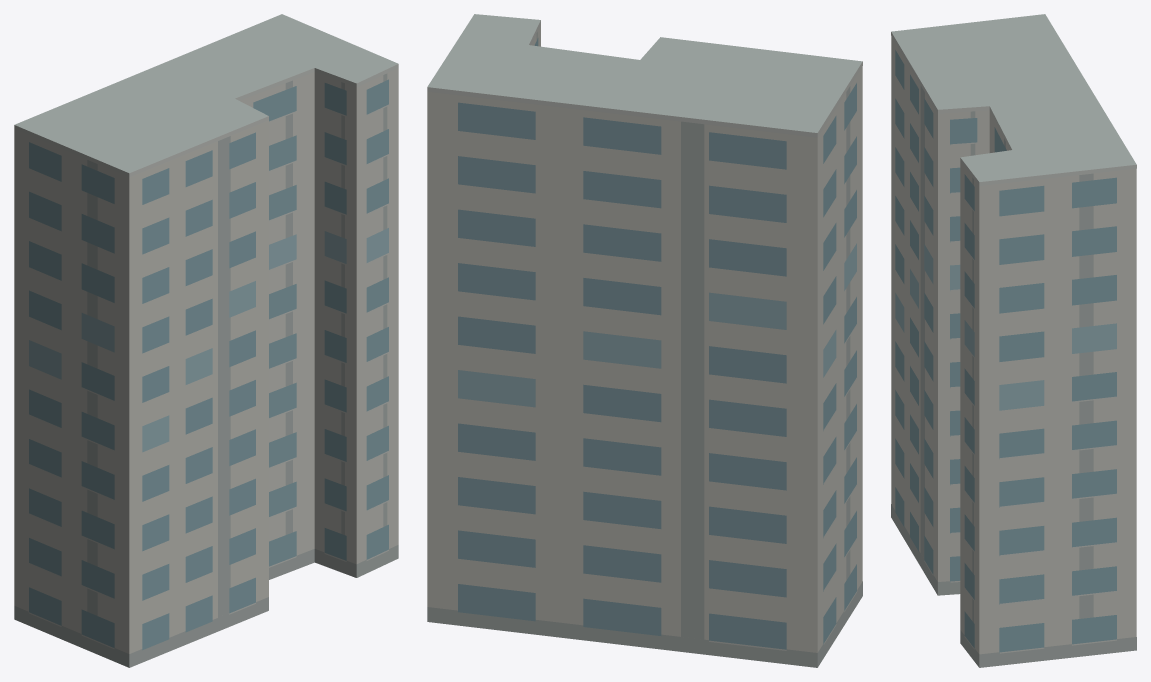
The model's file is residential-0a9e921e-aab9-4f10-840c-90ecdf71f04e.glb.
3 renders of one model, left to right at view 1: azimuth 30°, elevation 25°; view 2: azimuth 150°, elevation 25°; view 3: azimuth 270°, elevation 25°, orthographic. The views are drawn at different scales.
Parts seen in each view (by area): view 1: residential-0a9e921e-aab9-4f10-840c-90ecdf71f04e.tmp; view 2: residential-0a9e921e-aab9-4f10-840c-90ecdf71f04e.tmp; view 3: residential-0a9e921e-aab9-4f10-840c-90ecdf71f04e.tmp.
Boxes of the visible parts, bbox=[...] form: residential-0a9e921e-aab9-4f10-840c-90ecdf71f04e.tmp: bbox=[14, 14, 398, 667]; residential-0a9e921e-aab9-4f10-840c-90ecdf71f04e.tmp: bbox=[427, 14, 862, 667]; residential-0a9e921e-aab9-4f10-840c-90ecdf71f04e.tmp: bbox=[891, 14, 1136, 667].
Size of the model in its own units: 21.54 by 29 by 13.3.
